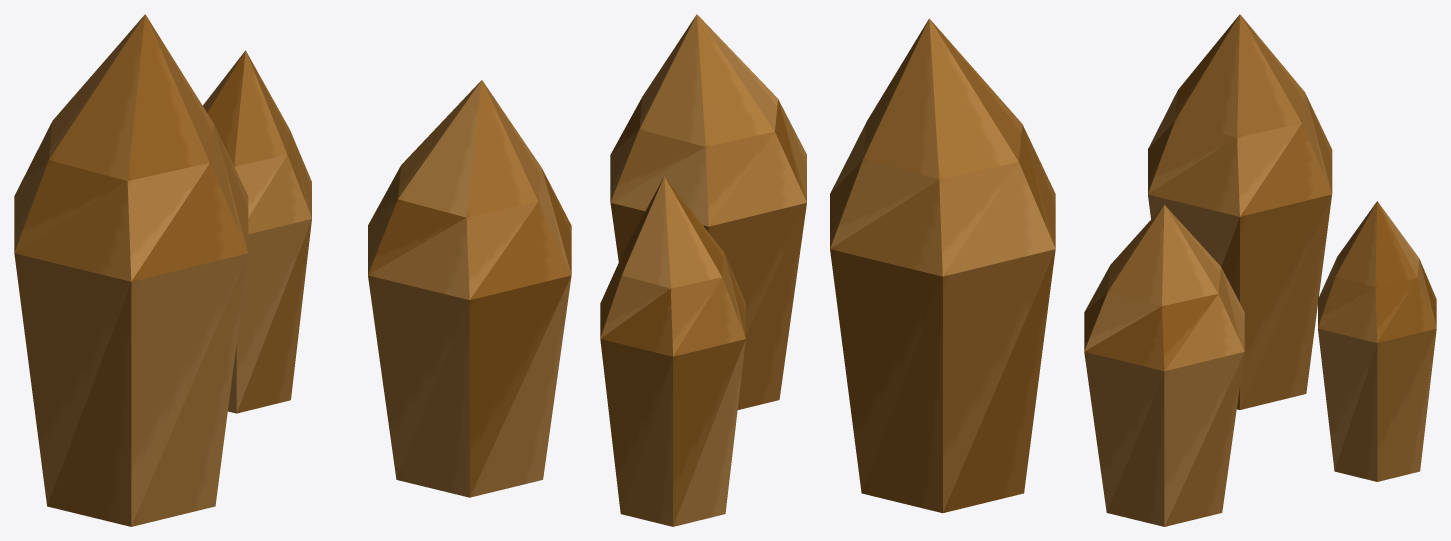
Rendered from shards.obj.
3 renders of one model, left to right at view 1: azimuth 30°, elevation 25°; view 2: azimuth 150°, elevation 25°; view 3: azimuth 270°, elevation 25°, orthographic. The views are drawn at different scales.
Size of the model in its own units: 0.135 by 0.1293 by 0.1027.
Materials: 1 (1 with a texture image).
